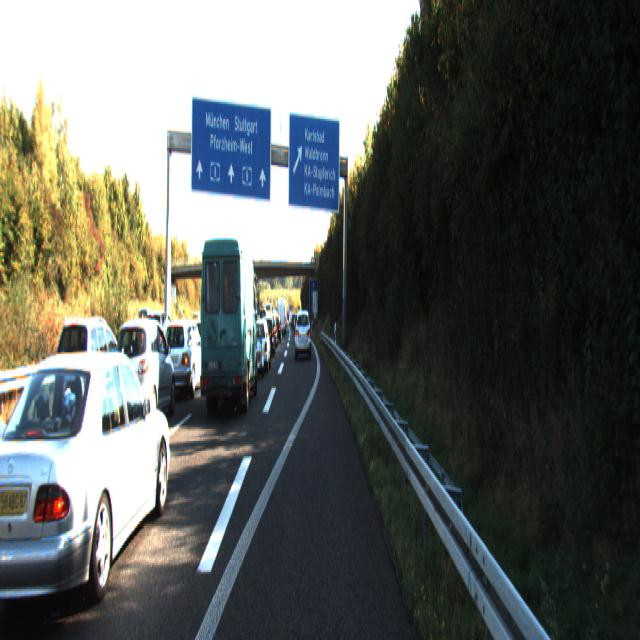Car: (0, 339, 174, 638), (198, 232, 258, 420), (51, 310, 127, 424), (110, 316, 178, 435), (0, 345, 28, 533), (160, 314, 207, 399), (248, 313, 272, 371), (294, 306, 311, 358), (259, 316, 276, 358)
